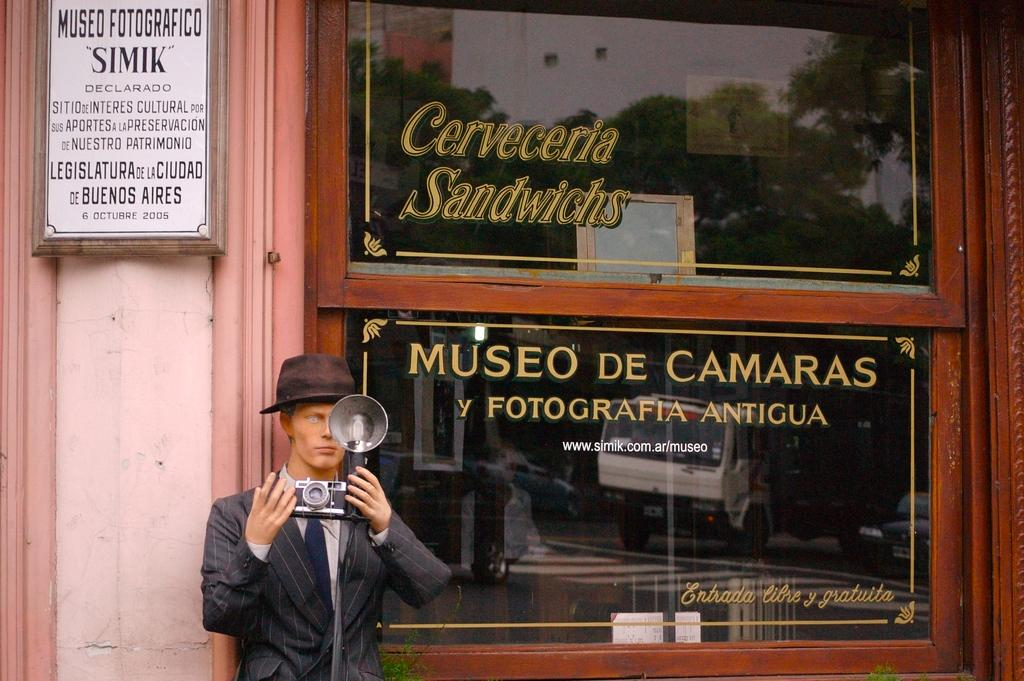Hat: (258, 352, 357, 413)
